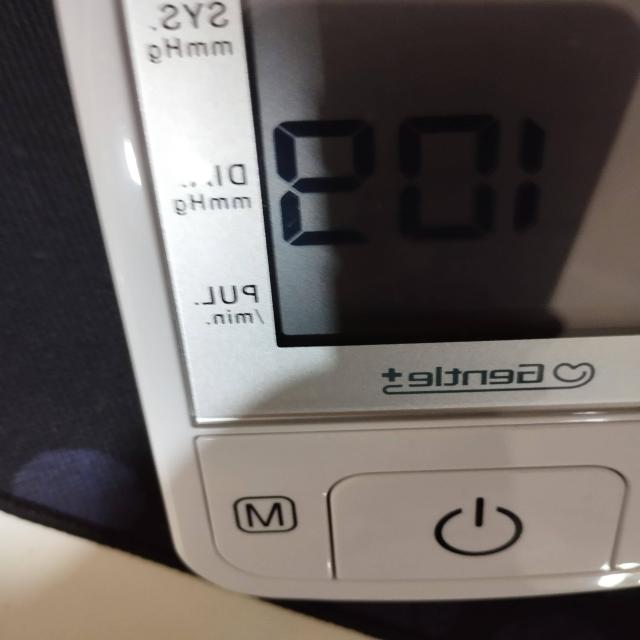bp: (55, 0, 640, 640)
